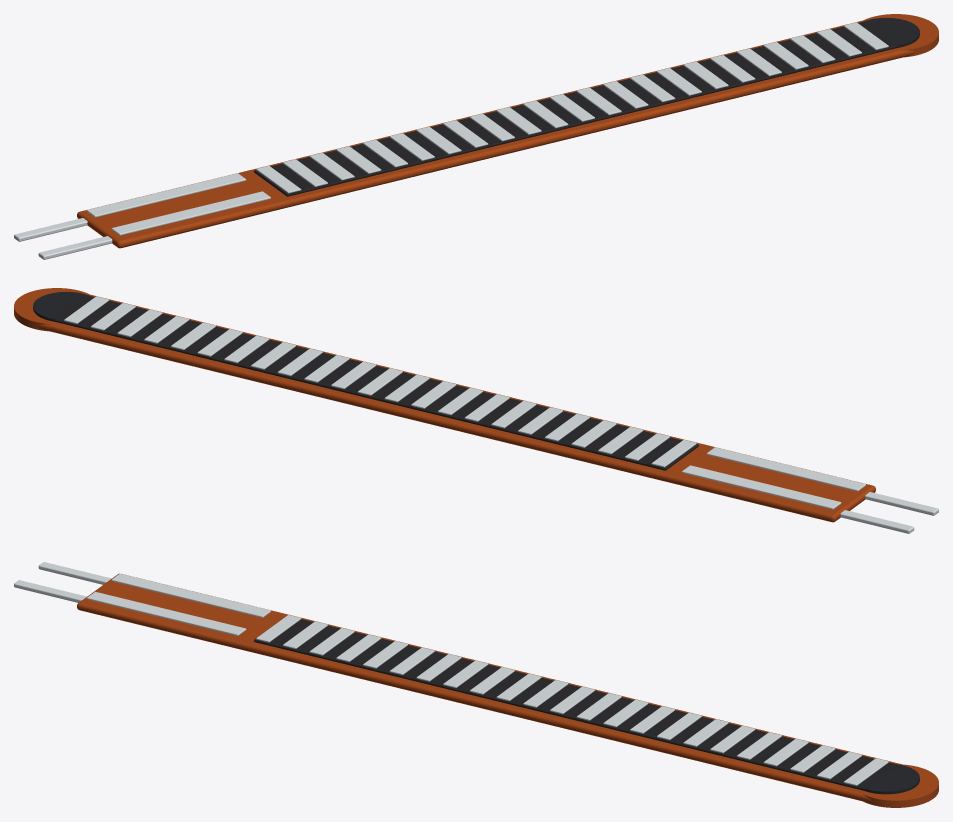
Rendered from sensors-26.glb.
The picture shows the model from 3 angles, top to bottom: view 1: azimuth 30°, elevation 25°; view 2: azimuth 150°, elevation 25°; view 3: azimuth 330°, elevation 25°; orthographic projection.
Parts seen in each view (by area): view 1: backing, electrodes, track, tails; view 2: backing, electrodes, track, tails; view 3: backing, electrodes, track, tails.
Boxes of the visible parts, x1,y1,x2,y2 form: backing: [77, 14, 938, 248]; electrodes: [87, 22, 888, 235]; track: [254, 17, 919, 196]; tails: [14, 218, 112, 259]; backing: [14, 288, 875, 522]; electrodes: [64, 296, 865, 509]; track: [33, 291, 698, 470]; tails: [840, 492, 938, 533]; backing: [77, 573, 938, 807]; electrodes: [87, 573, 888, 785]; track: [254, 619, 919, 794]; tails: [14, 562, 111, 602].
Bounding box in the file's own units: 3.76 × 0.0445 × 0.31.
